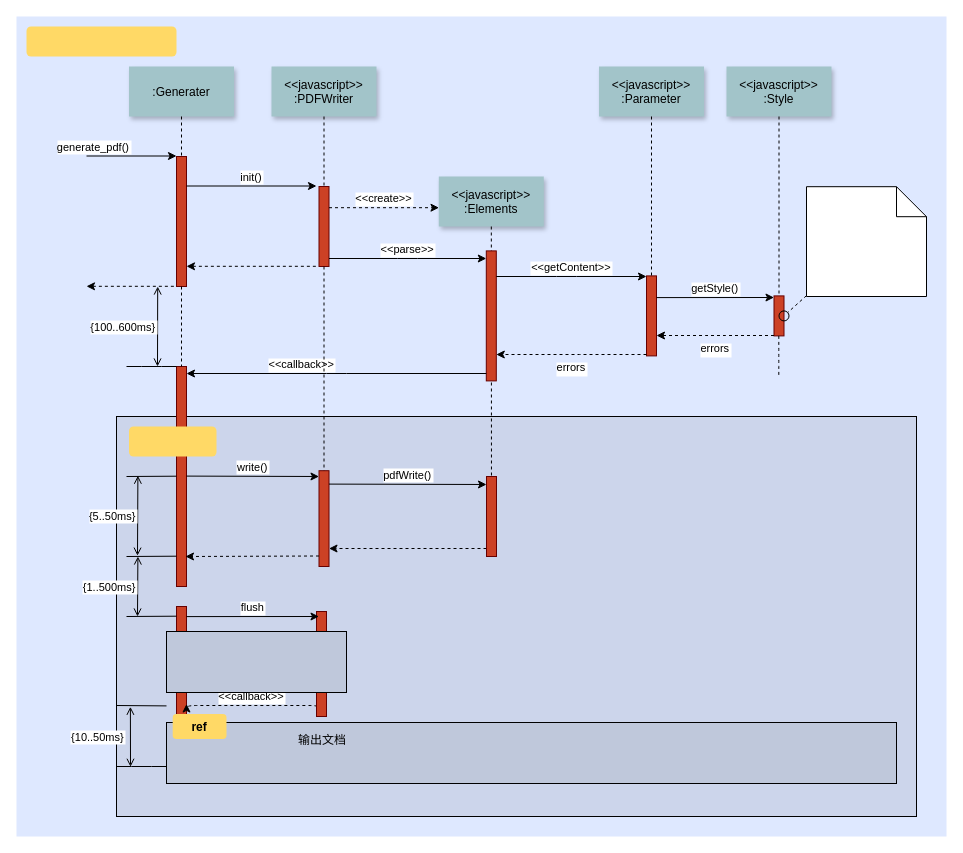
This 963x853 diagram has some shape labels left out. The shapes that lost their labels are listed below. From the top down, each one's centre as x and y in pixels, then its label:
At point (101, 41): "程序设计".
At point (866, 241): "- font - border - color - position check".
At point (172, 441): "opt".
At point (256, 661): "错误处理".
